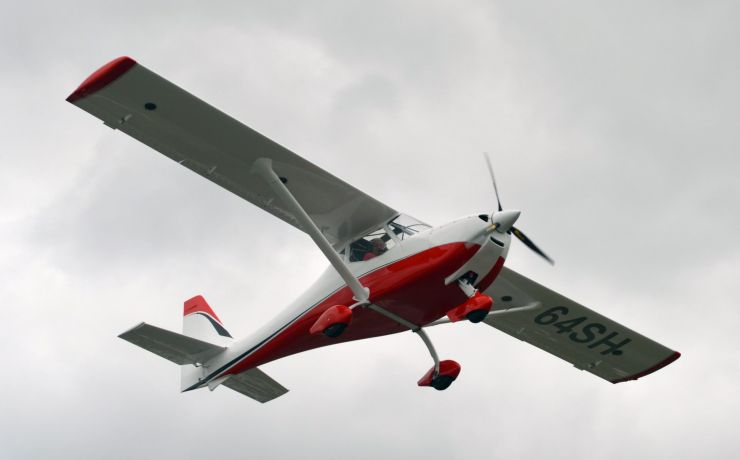Aeronef_de_loisir: (60, 54, 687, 406)
